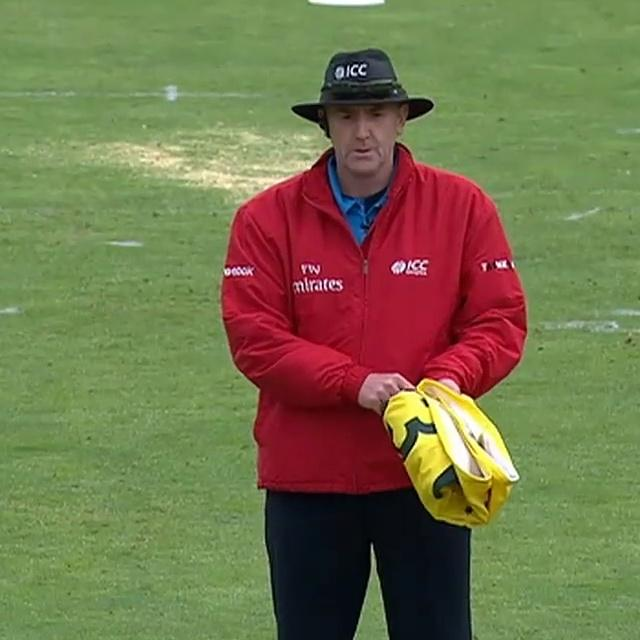umpire: (197, 27, 549, 640)
